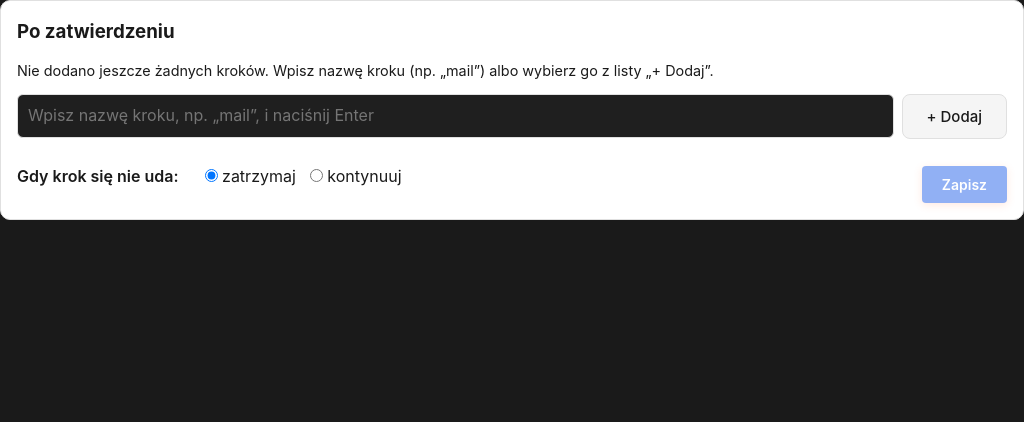
Test: AutomationChainField › dodaje kafelek po wpisaniu fragmentu nazwy i naciśnięciu Enter
Type "mail" into the dropdown named "Dodaj krok" at coordinates (455, 116), box [17, 94, 894, 138]
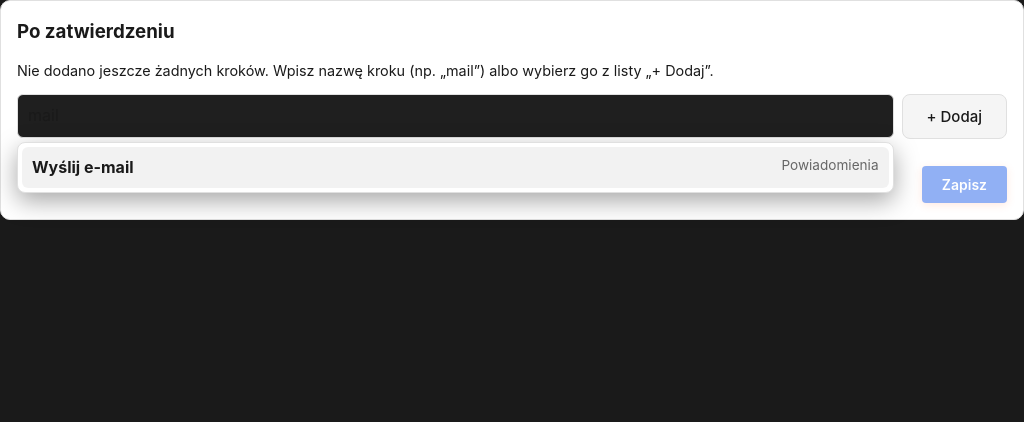
Expected: the option "Wyślij e-mail Powiadomienia" is shown, [22, 147, 888, 188]
Press Enter in the dropdown named "Dodaj krok", box [17, 94, 894, 138]
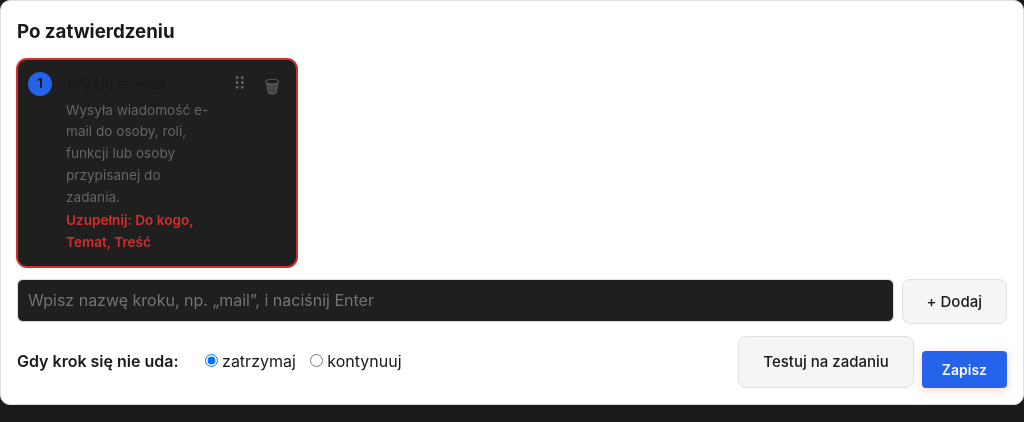
Expected: the button with aria-label "Ustawienia kroku 1: Wyślij e-mail" is shown, [62, 70, 221, 256]
Expected: the dropdown named "Dodaj krok" is empty, [17, 279, 894, 322]
